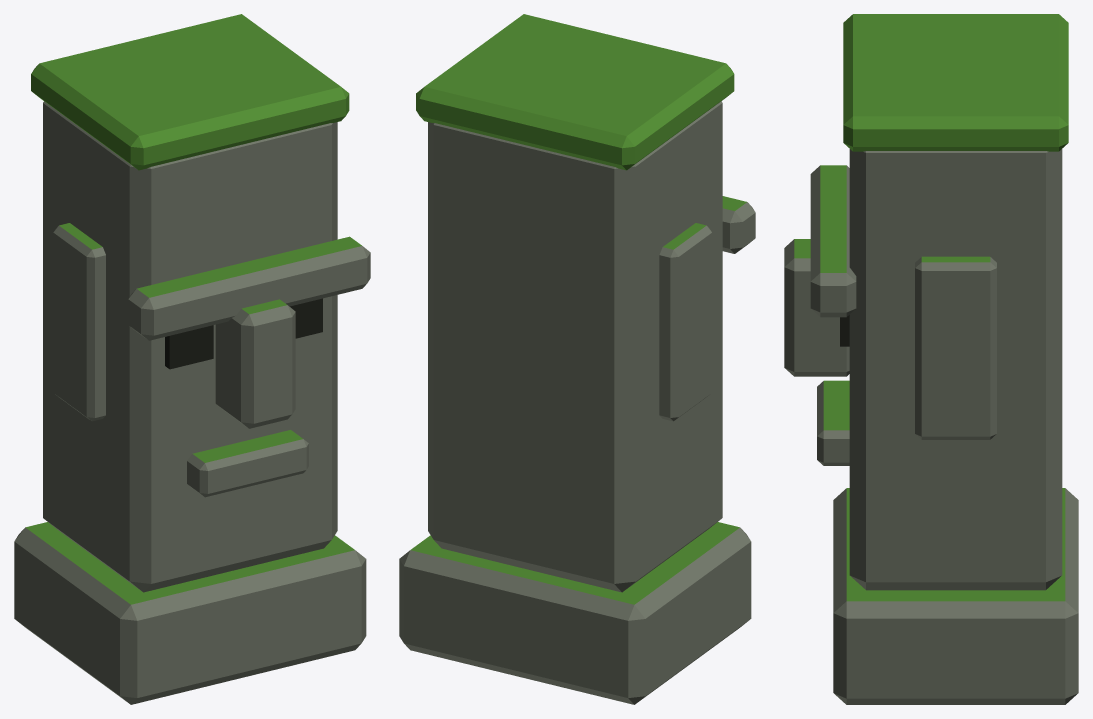
The model's file is Ruin_IdolHead.fbx.
3 views of the same model, side by side, from view 1: azimuth 30°, elevation 25°; view 2: azimuth 150°, elevation 25°; view 3: azimuth 270°, elevation 25° (orthographic). The views are drawn at different scales.
Parts seen in each view (by area): view 1: Ruin_IdolHead.001; view 2: Ruin_IdolHead.001; view 3: Ruin_IdolHead.001.
Part boxes in pixels (x1,y1,x2,y2): Ruin_IdolHead.001: (14,14,370,704); Ruin_IdolHead.001: (399,14,755,704); Ruin_IdolHead.001: (784,14,1078,704).
Bounding box in the file's own units: 0.9 × 1.97 × 0.9.
